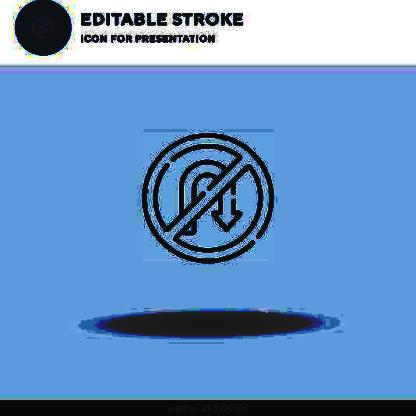No U-turn: (140, 126, 278, 268)
